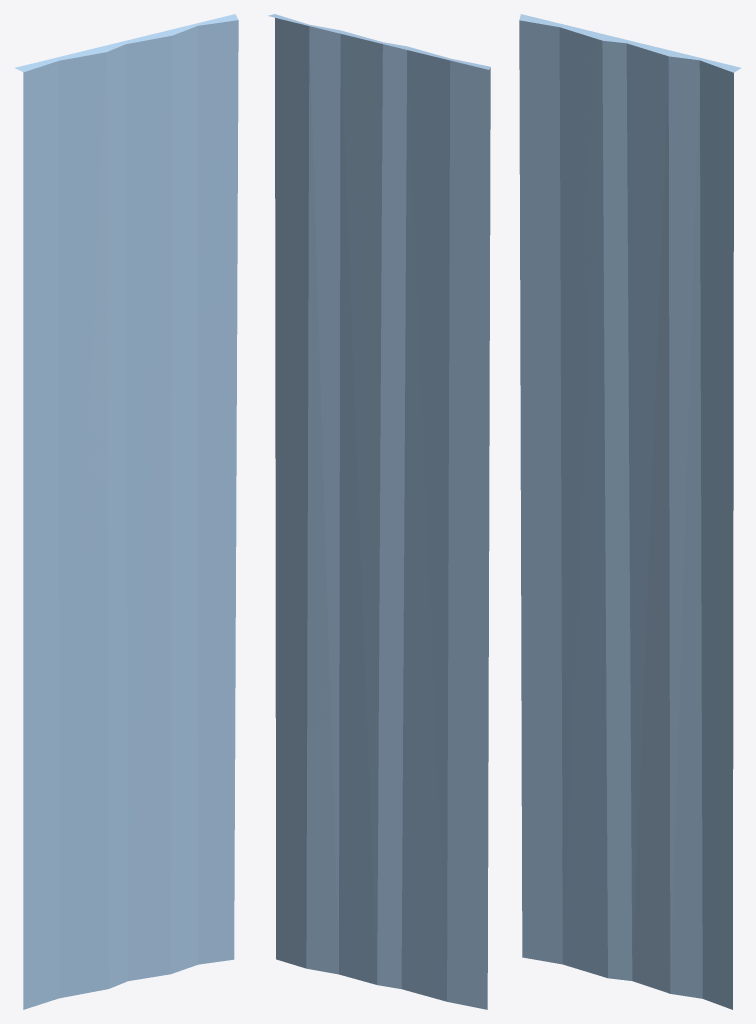
File: Terrain_Modular_Tiles_Waterfall_Large_01.fbx
The picture shows the model from 3 angles, left to right: view 1: azimuth 30°, elevation 25°; view 2: azimuth 150°, elevation 25°; view 3: azimuth 330°, elevation 25°; orthographic projection.
Parts seen in each view (by area): view 1: Terrain_Modular_Tiles_Waterfall_Large_01; view 2: Terrain_Modular_Tiles_Waterfall_Large_01; view 3: Terrain_Modular_Tiles_Waterfall_Large_01.
Part boxes in pixels (x1=…): Terrain_Modular_Tiles_Waterfall_Large_01: x1=15, y1=14, x2=238, y2=1009; Terrain_Modular_Tiles_Waterfall_Large_01: x1=267, y1=14, x2=490, y2=1009; Terrain_Modular_Tiles_Waterfall_Large_01: x1=519, y1=14, x2=741, y2=1009.
Size of the model in its own units: 1500 by 6106 by 63.8.
